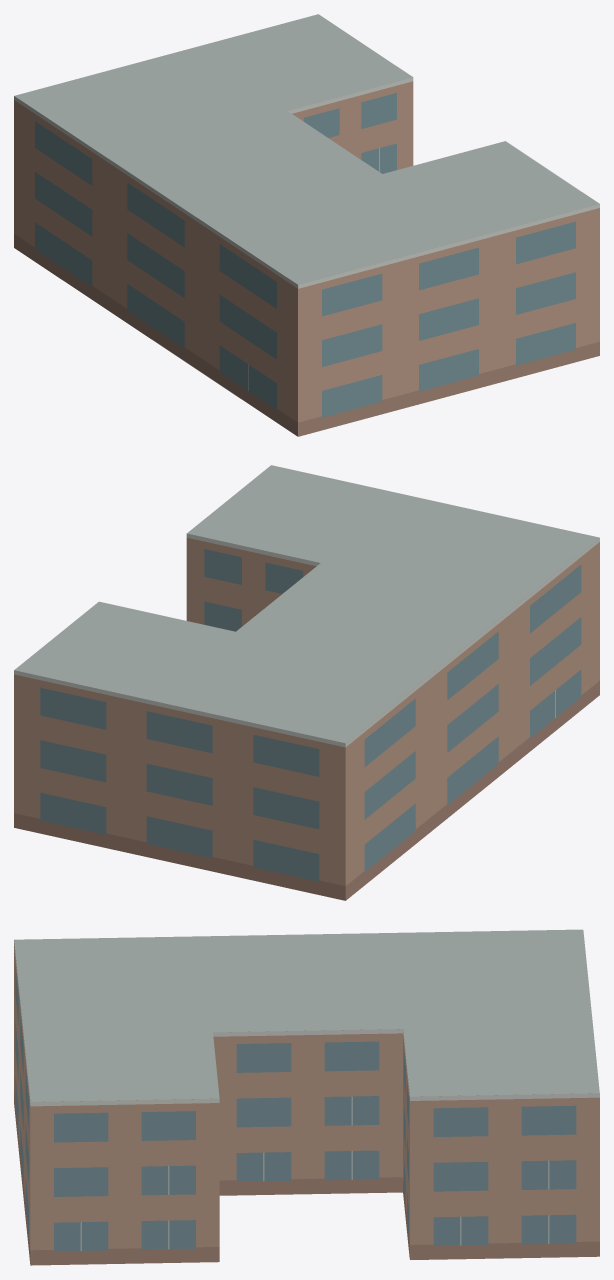
File: survey-upis-32697794.glb
The picture shows the model from 3 angles, top to bottom: view 1: azimuth 30°, elevation 25°; view 2: azimuth 150°, elevation 25°; view 3: azimuth 270°, elevation 25°; orthographic projection. The views are drawn at different scales.
Visible parts, largest first — view 1: survey-upis-32697794.tmp; view 2: survey-upis-32697794.tmp; view 3: survey-upis-32697794.tmp.
Boxes of the visible parts, x1=… form: survey-upis-32697794.tmp: x1=14, y1=14, x2=599, y2=436; survey-upis-32697794.tmp: x1=14, y1=465, x2=599, y2=900; survey-upis-32697794.tmp: x1=14, y1=929, x2=599, y2=1265.
Size of the model in its own units: 20.73 by 9.15 by 29.73.
